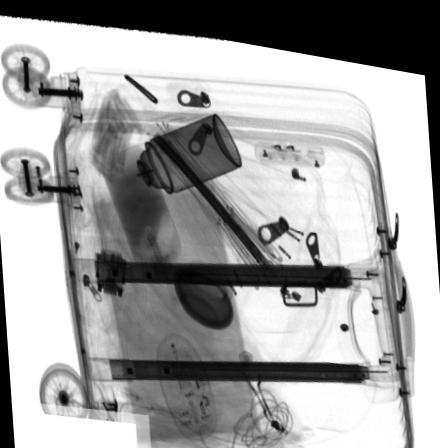Sprayer: (121, 106, 242, 197)
